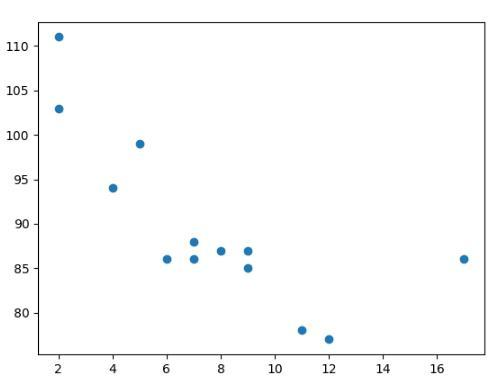axis: (33, 351, 487, 361), (33, 20, 43, 359)
point: (322, 333, 337, 347), (105, 182, 121, 194), (187, 253, 201, 266), (457, 253, 471, 266), (215, 245, 228, 258), (242, 262, 255, 275), (52, 103, 66, 115), (160, 253, 174, 265), (241, 246, 254, 258), (133, 139, 147, 150), (187, 237, 201, 248), (295, 325, 309, 336), (52, 32, 66, 42)
